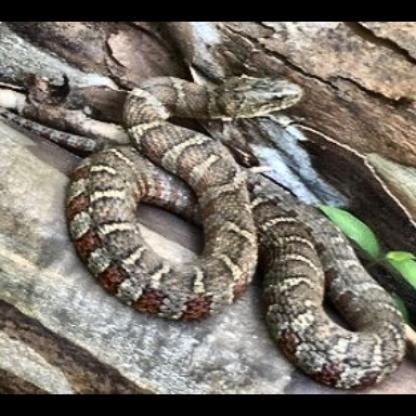Snake: (62, 70, 416, 393)
